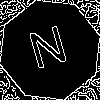N: (25, 25, 73, 79)
